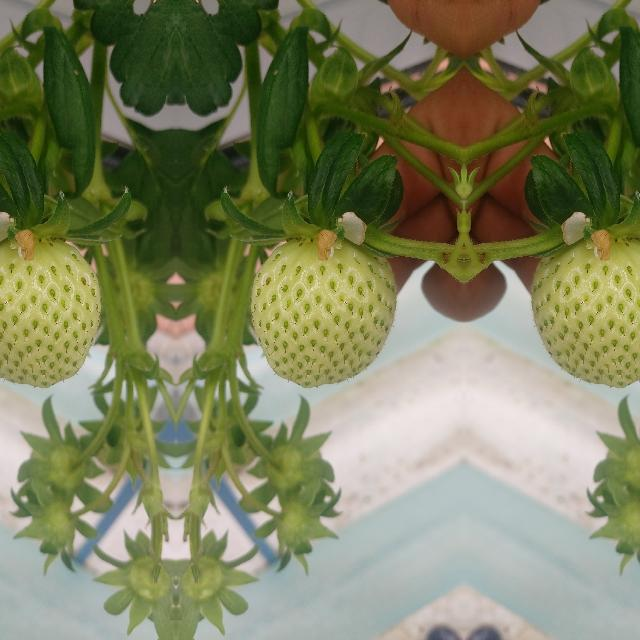Health_25: (250, 238, 396, 388), (530, 238, 640, 387), (0, 238, 100, 387)
